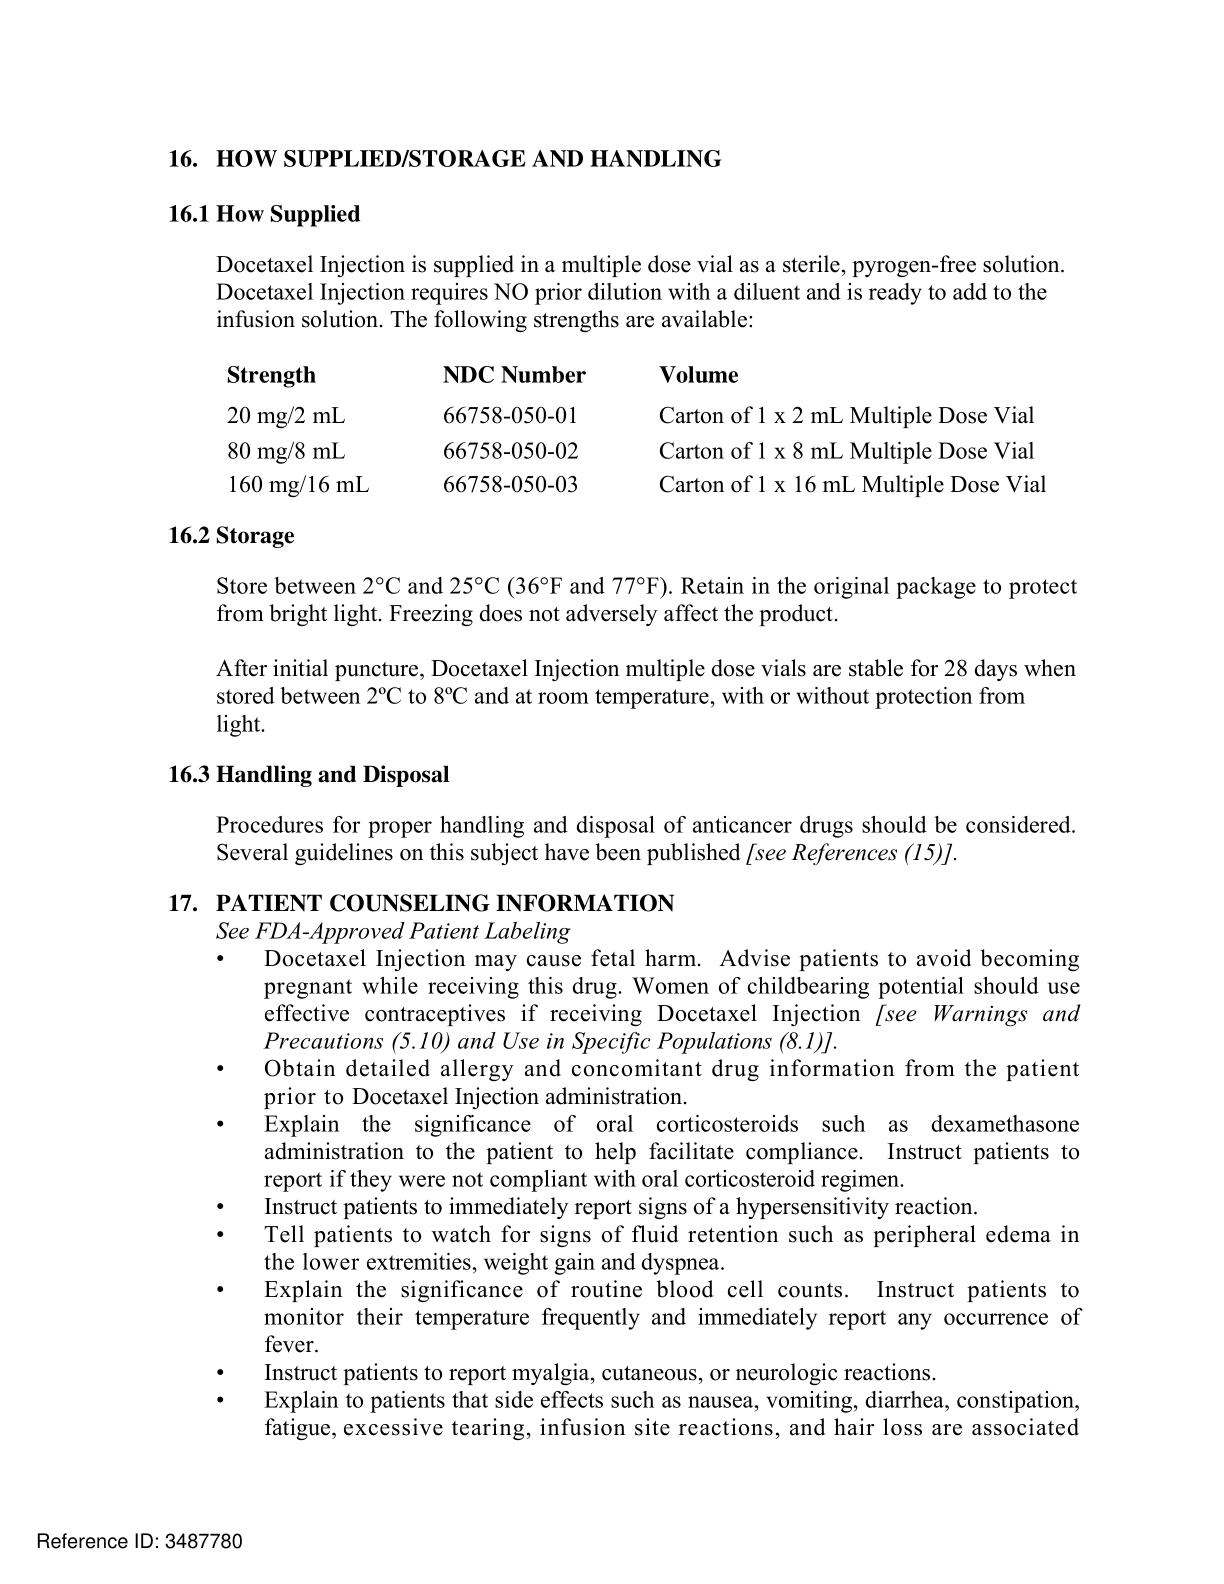nolines: (222, 363, 1049, 495)
